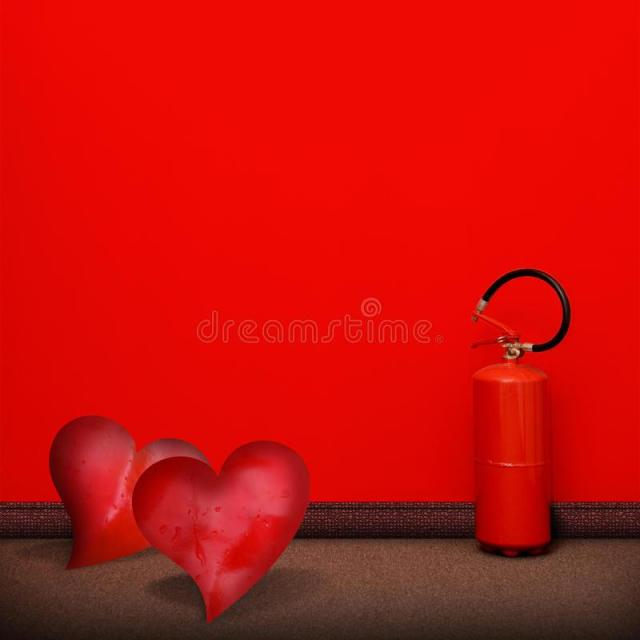fire_extinguisher: (458, 262, 582, 564)
